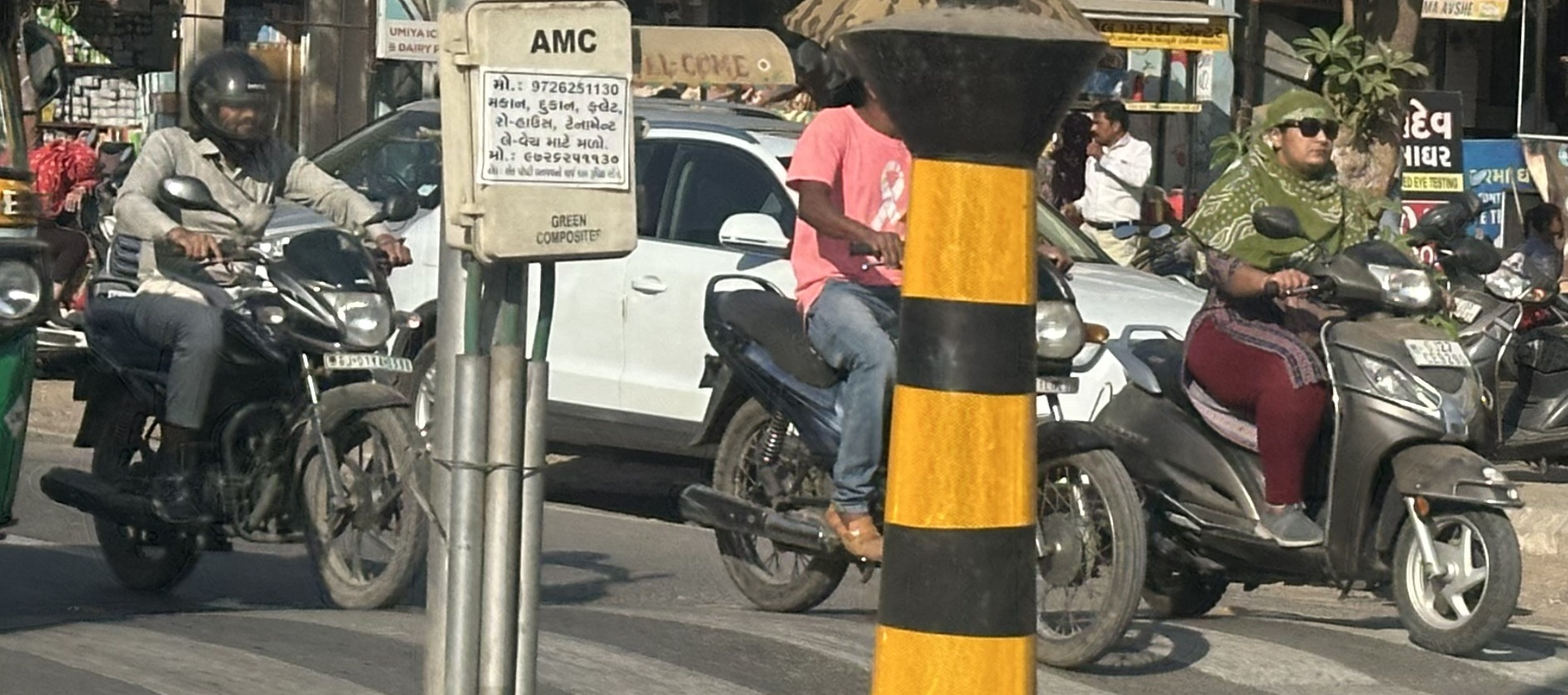BikeWithRider: (1074, 81, 1537, 662), (27, 35, 462, 628)
Helmet: (178, 41, 289, 158)
NoHelmet: (1251, 82, 1351, 185)
